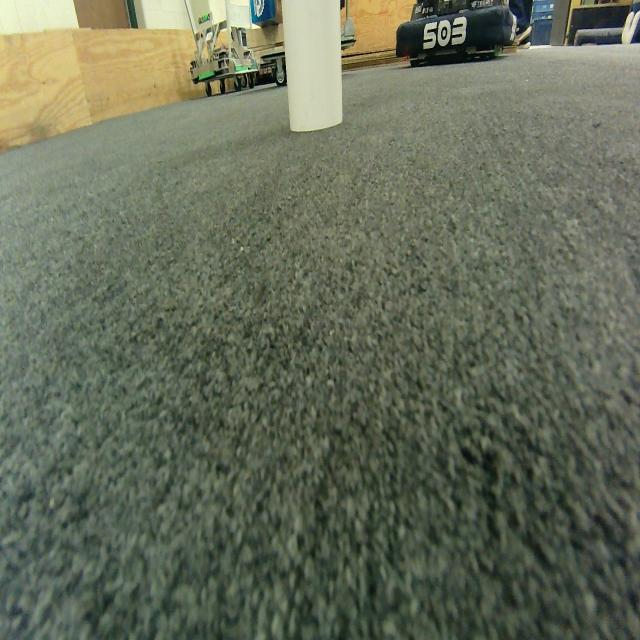coral: (277, 0, 362, 142)
